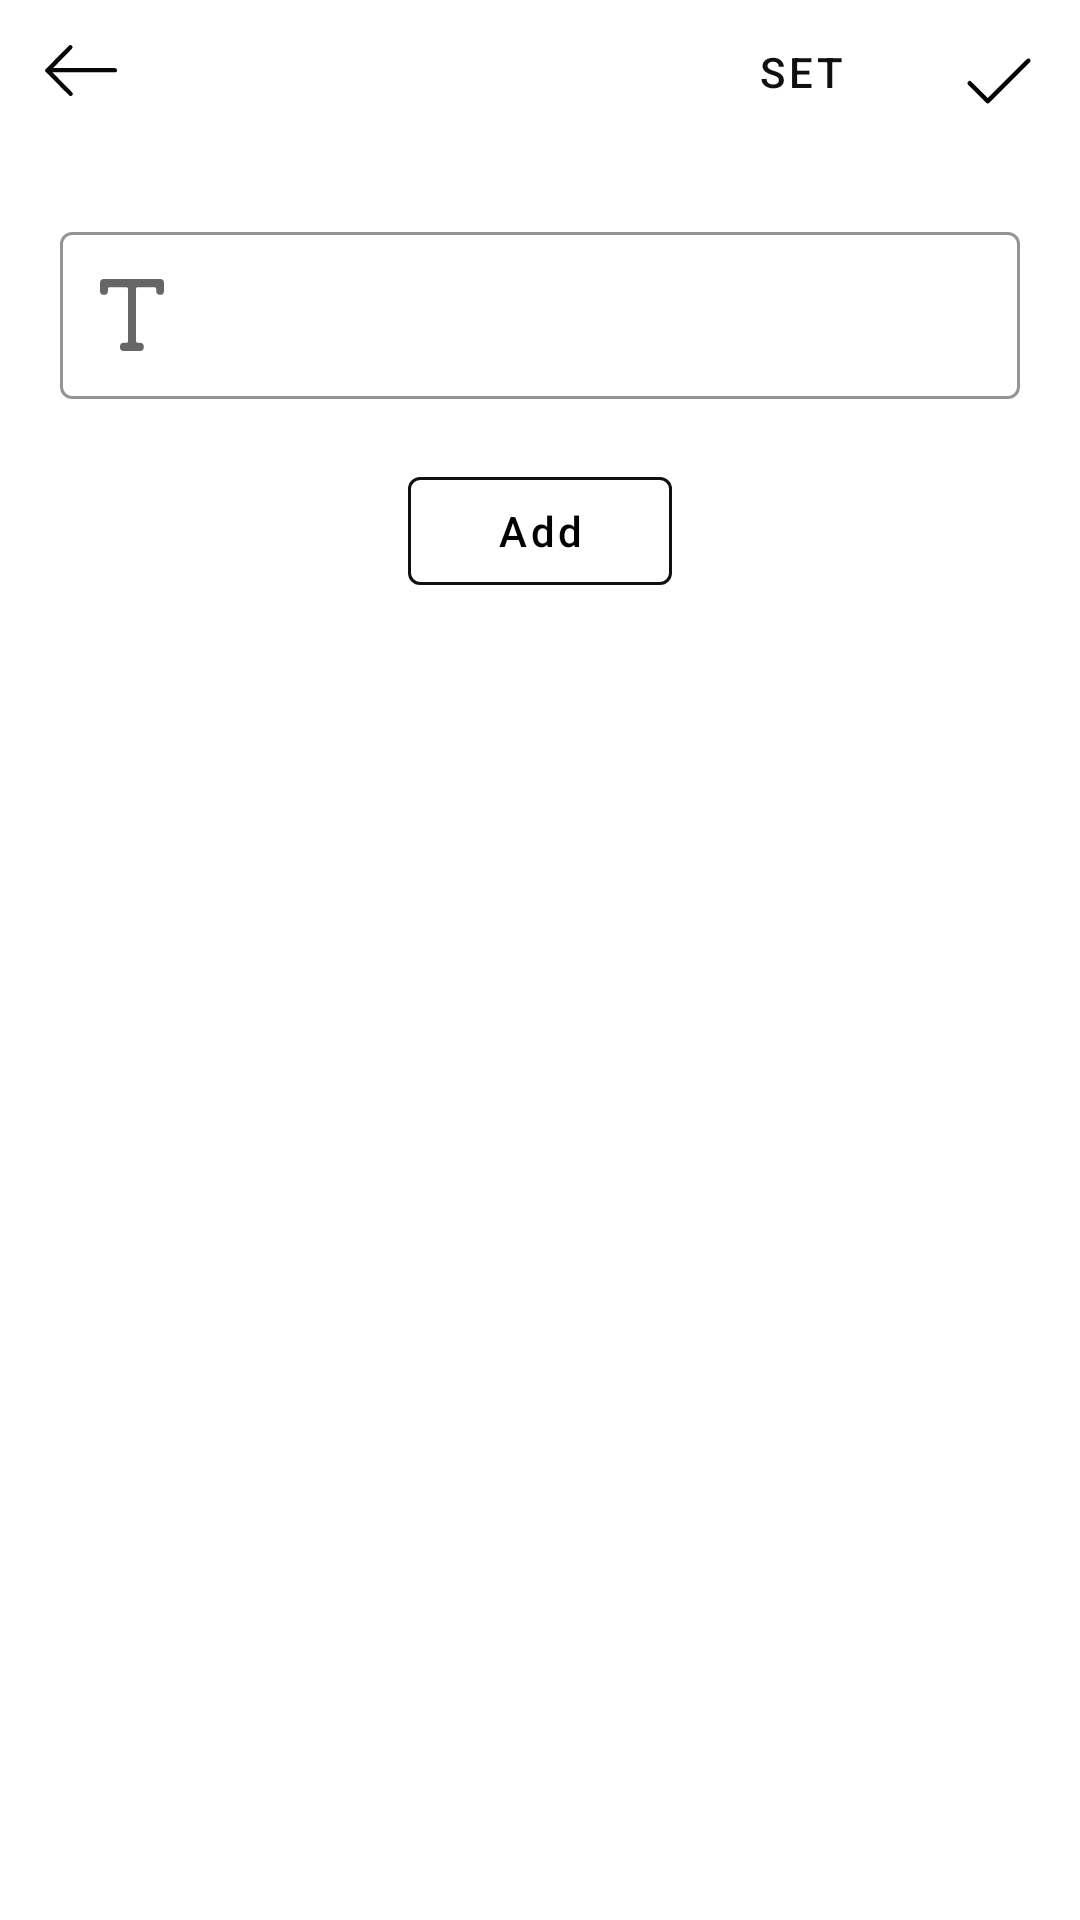

Where to tap for icons on this 1080*1920 app screen, as (x,y):
back arrow: (81,70)
checkmark: (999,81)
